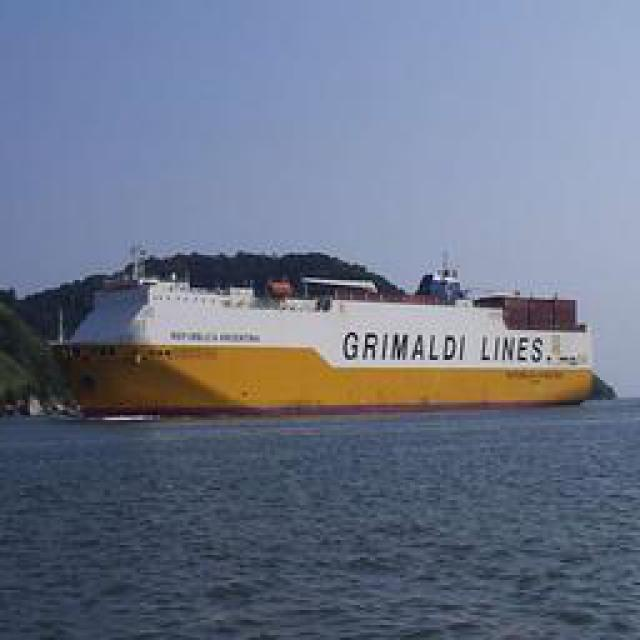Ship: (52, 255, 600, 415)
